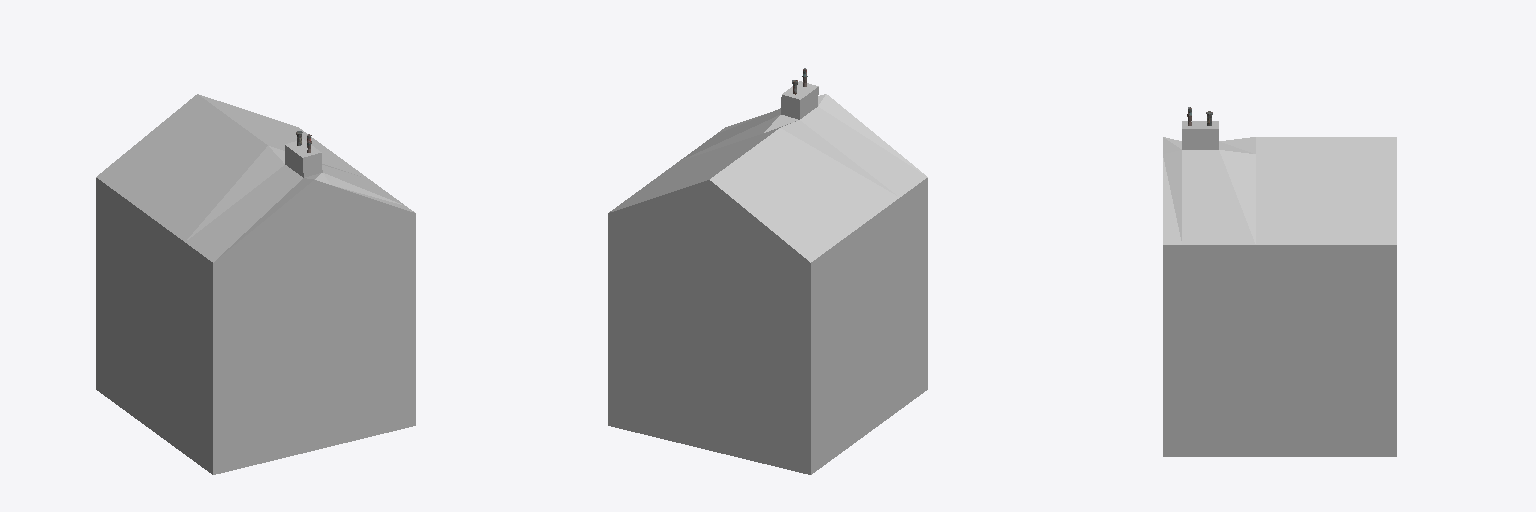
3 views of the same model, side by side, from view 1: azimuth 30°, elevation 25°; view 2: azimuth 150°, elevation 25°; view 3: azimuth 270°, elevation 25° (orthographic).
Parts seen in each view (by area): view 1: Cube; view 2: Cube; view 3: Cube.
Part boxes in pixels (x1,y1,x2,y2): Cube: (96, 94, 415, 474); Cube: (608, 68, 927, 474); Cube: (1163, 107, 1396, 456).
Bounding box in the file's own units: 2 × 2.86 × 2.
Materials: 5 (1 with a texture image).